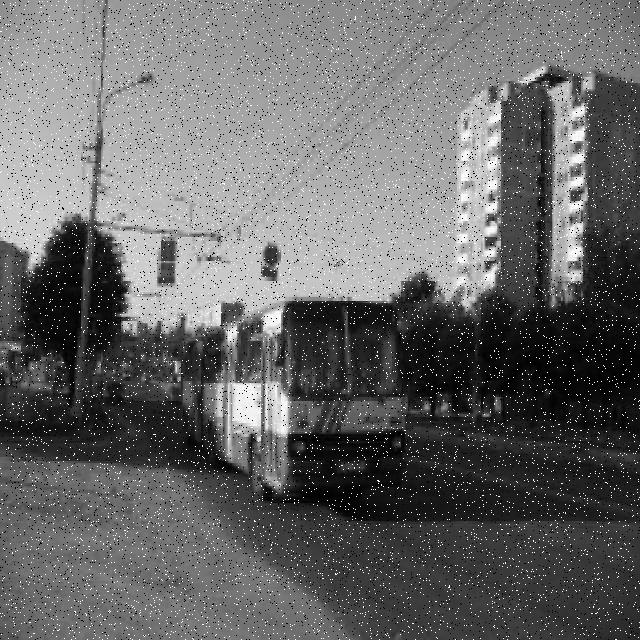Bus: (179, 295, 407, 503)
